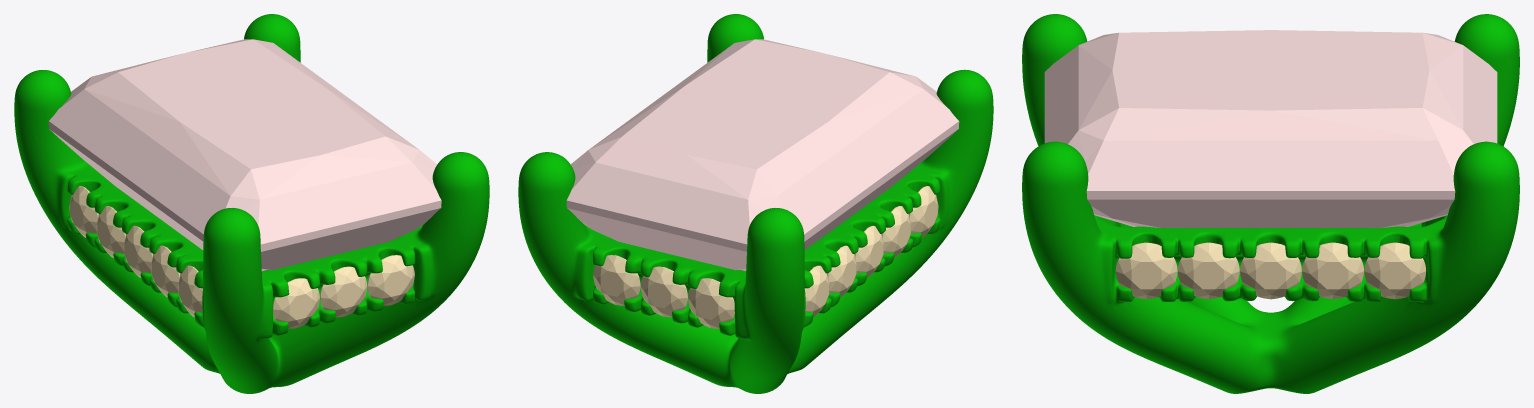
The picture shows the model from 3 angles, left to right: view 1: azimuth 30°, elevation 25°; view 2: azimuth 150°, elevation 25°; view 3: azimuth 270°, elevation 25°; orthographic projection. The views are drawn at different scales.
Parts seen in each view (by area): view 1: Diamond_Radiant, Metal01, Diamond_Round.001, Diamond_Round.002, Diamond_Round, Diamond_Round.012, Diamond_Round.015, Diamond_Round.011, Diamond_Round.014, Diamond_Round.013; view 2: Diamond_Radiant, Metal01, Diamond_Round.004, Diamond_Round.005, Diamond_Round.003, Diamond_Round.013, Diamond_Round.014, Diamond_Round.011, Diamond_Round.012, Diamond_Round.015; view 3: Diamond_Radiant, Metal01, Diamond_Round.008, Diamond_Round.010, Diamond_Round.006, Diamond_Round.007, Diamond_Round.009.
Part boxes in pixels (left/top/right/bottom): Diamond_Radiant: left=48, top=39, right=441, bottom=271; Metal01: left=14, top=14, right=489, bottom=393; Diamond_Round.001: left=320, top=266, right=367, bottom=317; Diamond_Round.002: left=367, top=255, right=414, bottom=305; Diamond_Round: left=273, top=278, right=319, bottom=328; Diamond_Round.012: left=150, top=245, right=180, bottom=297; Diamond_Round.015: left=69, top=186, right=98, bottom=237; Diamond_Round.011: left=123, top=225, right=153, bottom=277; Diamond_Round.014: left=96, top=206, right=125, bottom=257; Diamond_Round.013: left=178, top=265, right=202, bottom=317; Diamond_Radiant: left=566, top=39, right=959, bottom=271; Metal01: left=518, top=14, right=993, bottom=393; Diamond_Round.004: left=640, top=266, right=687, bottom=317; Diamond_Round.005: left=593, top=255, right=640, bottom=305; Diamond_Round.003: left=688, top=278, right=734, bottom=328; Diamond_Round.013: left=909, top=186, right=938, bottom=237; Diamond_Round.014: left=827, top=245, right=856, bottom=297; Diamond_Round.011: left=854, top=225, right=884, bottom=277; Diamond_Round.012: left=881, top=206, right=911, bottom=257; Diamond_Round.015: left=804, top=265, right=829, bottom=317; Diamond_Radiant: left=1044, top=30, right=1497, bottom=227; Metal01: left=1022, top=14, right=1519, bottom=393; Diamond_Round.008: left=1240, top=242, right=1301, bottom=299; Diamond_Round.010: left=1115, top=242, right=1177, bottom=299; Diamond_Round.006: left=1364, top=242, right=1425, bottom=299; Diamond_Round.007: left=1302, top=242, right=1363, bottom=299; Diamond_Round.009: left=1178, top=242, right=1239, bottom=299.
Bounding box in the file's own units: 7.15 × 6.65 × 9.68.
